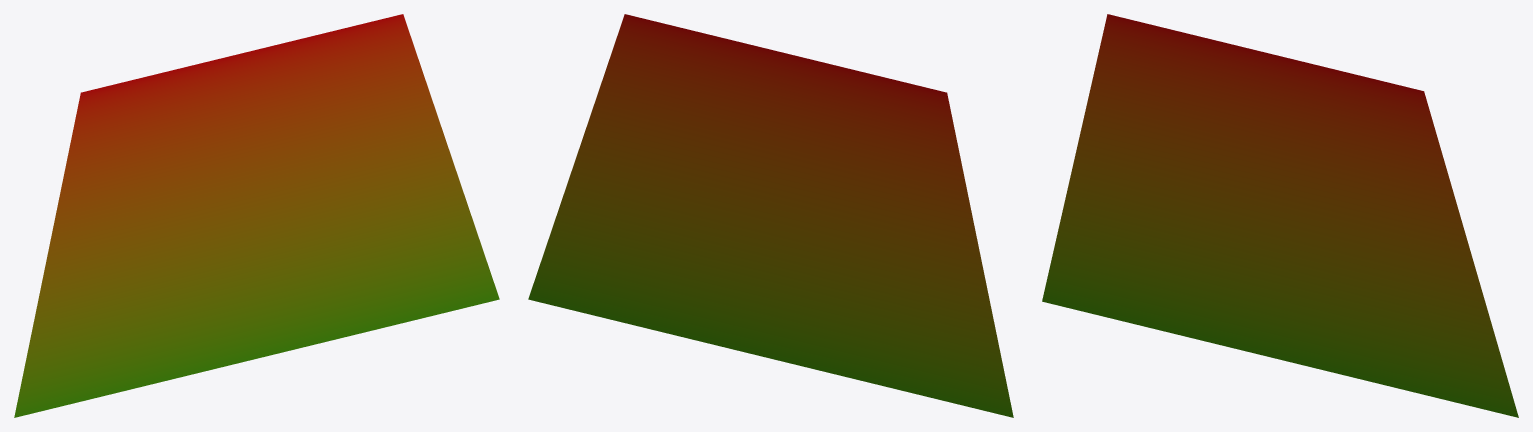
The model's file is Pink Cordyline_LOD3_Var7_sfhhN.fbx.
The picture shows the model from 3 angles, left to right: view 1: azimuth 30°, elevation 25°; view 2: azimuth 150°, elevation 25°; view 3: azimuth 330°, elevation 25°; orthographic projection.
Parts seen in each view (by area): view 1: _e498_Var7_LOD3; view 2: _e498_Var7_LOD3; view 3: _e498_Var7_LOD3.
Part boxes in pixels (bbox=[...]): _e498_Var7_LOD3: bbox=[14, 14, 499, 417]; _e498_Var7_LOD3: bbox=[528, 14, 1013, 417]; _e498_Var7_LOD3: bbox=[1042, 14, 1518, 417].
Bounding box in the file's own units: 74.65 × 45.4 × 1.19e-07.
